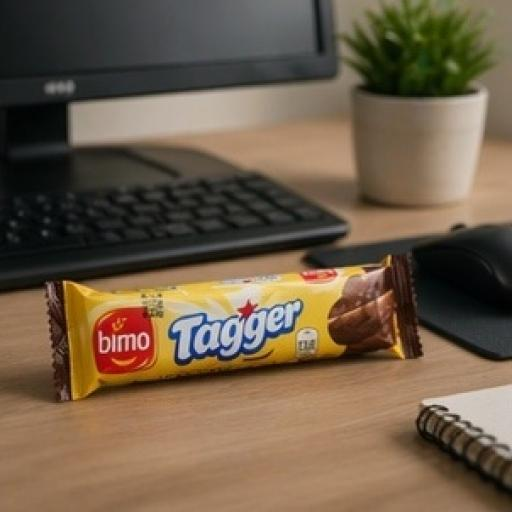tagger: (29, 241, 472, 455)
